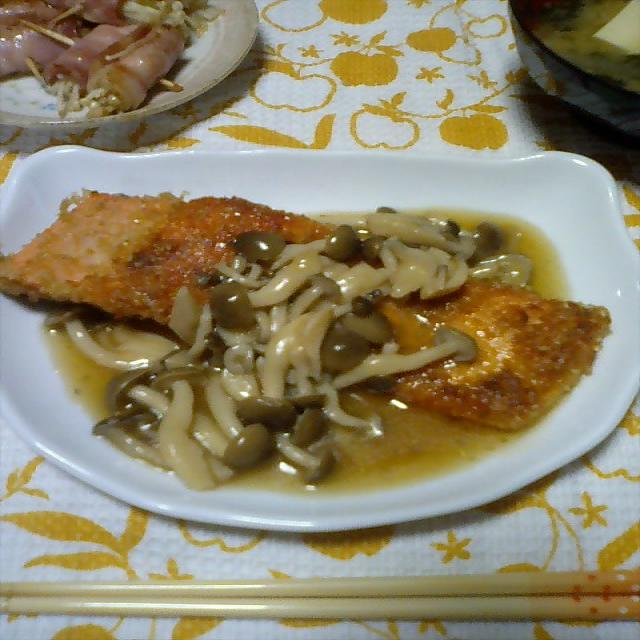熟制海鲜: (11, 180, 609, 433)
